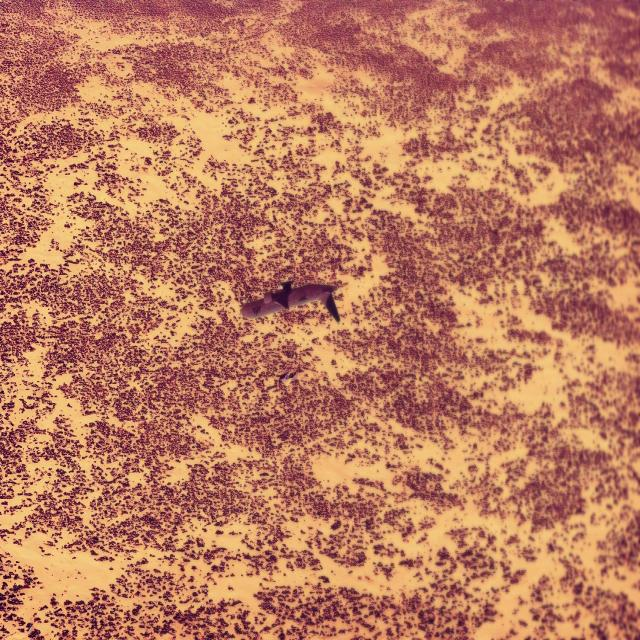airplane: (239, 280, 341, 324)
